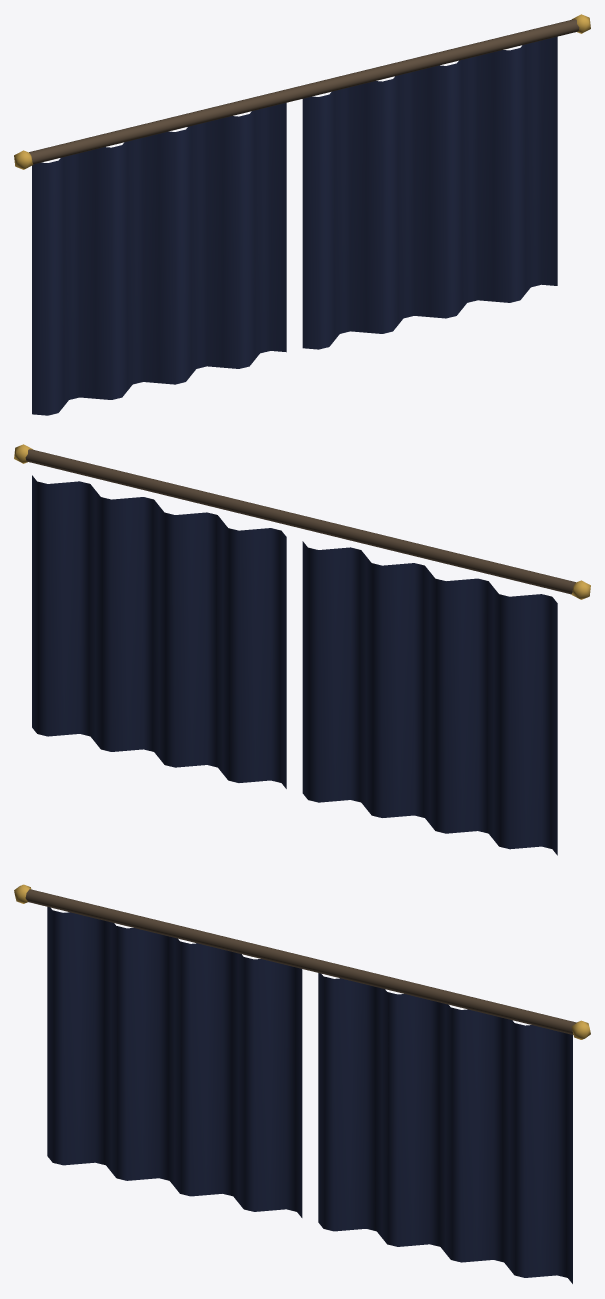
The model's file is furn_blackout_curtains.glb.
3 renders of one model, top to bottom at view 1: azimuth 30°, elevation 25°; view 2: azimuth 150°, elevation 25°; view 3: azimuth 330°, elevation 25°, orthographic.
Parts seen in each view (by area): view 1: furn_blackout_curtains_main, furn_blackout_curtains_gloss; view 2: furn_blackout_curtains_main, furn_blackout_curtains_gloss; view 3: furn_blackout_curtains_main, furn_blackout_curtains_gloss.
Part boxes in pixels (x1,y1,x2,y2): furn_blackout_curtains_main: [32, 36, 557, 415]; furn_blackout_curtains_gloss: [14, 14, 590, 169]; furn_blackout_curtains_main: [32, 475, 557, 855]; furn_blackout_curtains_gloss: [14, 444, 590, 599]; furn_blackout_curtains_main: [47, 907, 572, 1283]; furn_blackout_curtains_gloss: [14, 884, 590, 1039].
Size of the model in its own units: 2.14 by 0.975 by 0.1144.
